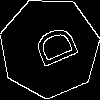D: (24, 23, 80, 74)
